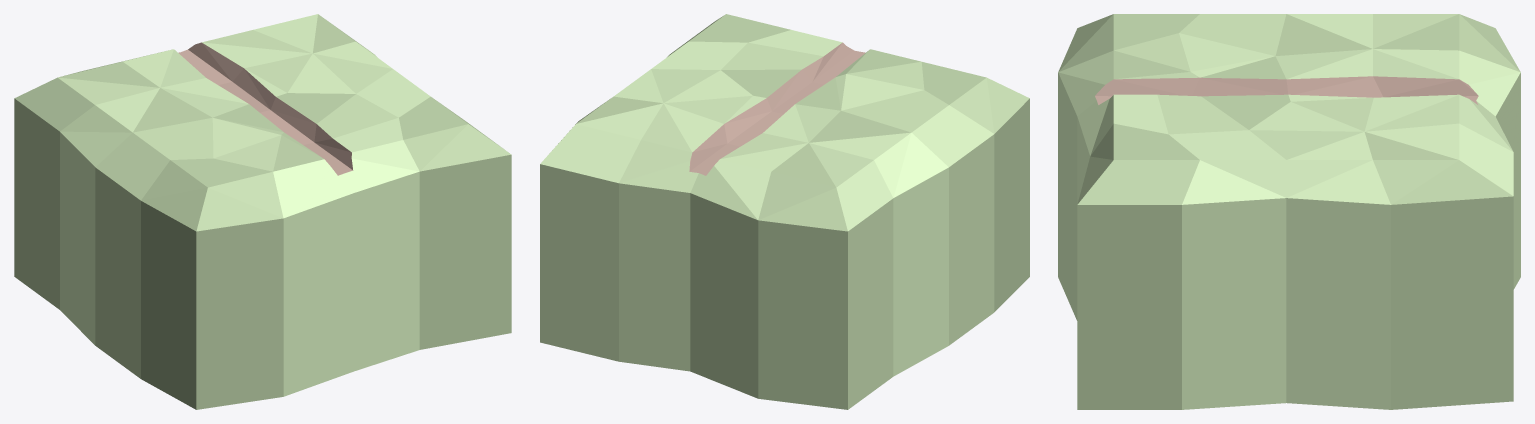
The model's file is Trench.fbx.
3 views of the same model, side by side, from view 1: azimuth 30°, elevation 25°; view 2: azimuth 150°, elevation 25°; view 3: azimuth 270°, elevation 25° (orthographic). The views are drawn at different scales.
Parts seen in each view (by area): view 1: Trench; view 2: Trench; view 3: Trench.
Boxes of the visible parts, left/top/right/bottom form: Trench: left=14, top=14, right=511, bottom=409; Trench: left=540, top=14, right=1029, bottom=409; Trench: left=1058, top=14, right=1520, bottom=409.
Bounding box in the file's own units: 62.42 × 37.8 × 66.93.
